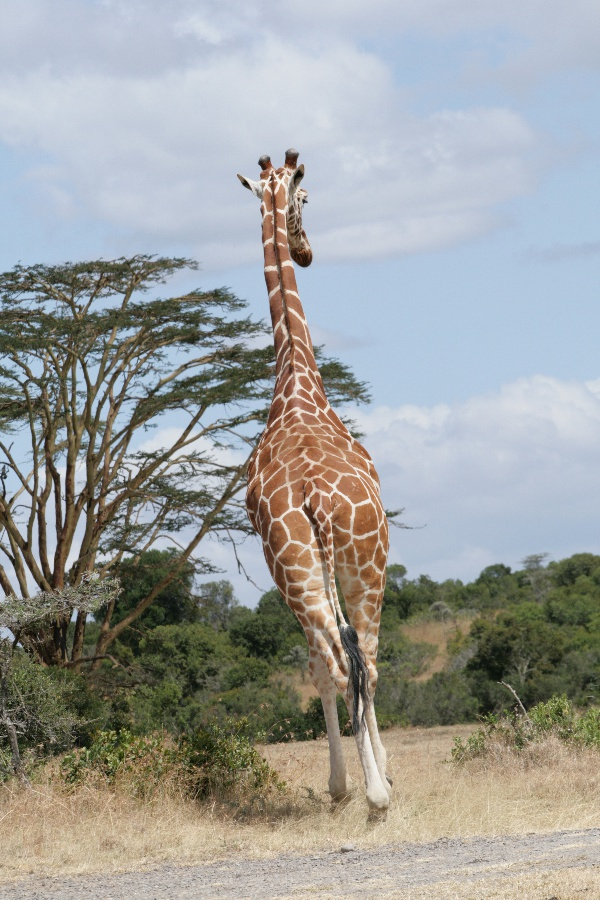giraffe: (232, 134, 416, 833)
